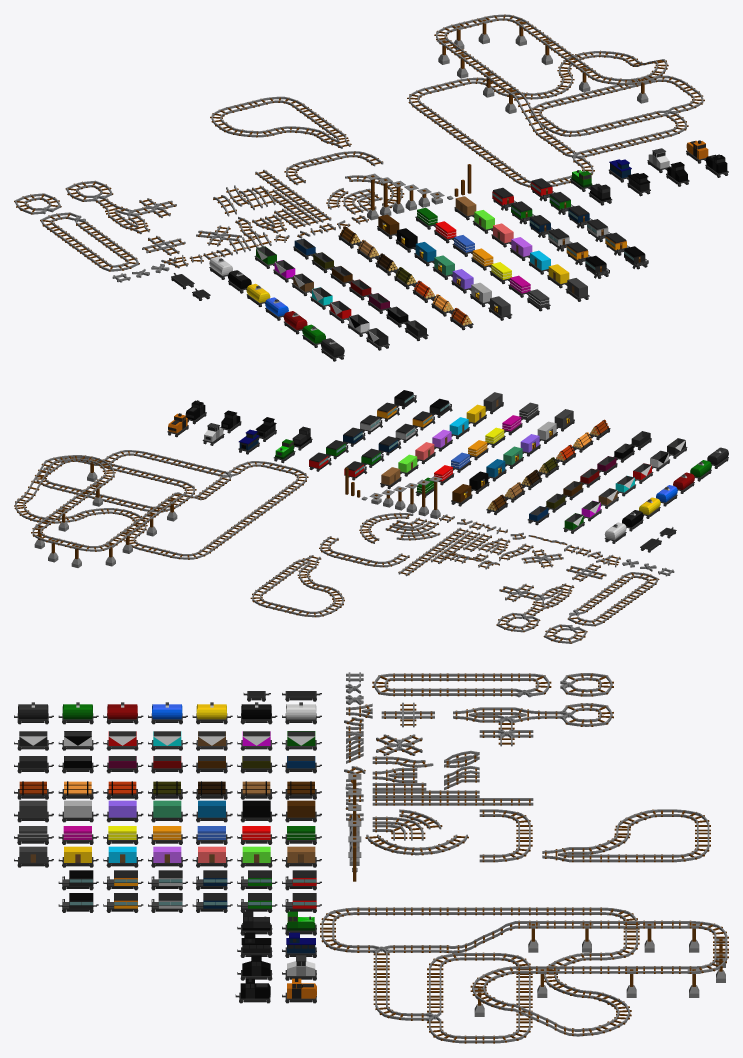
Rendered from Low Poly Trains and Railroads.fbx.
3 views of the same model, one above another, from view 1: azimuth 30°, elevation 25°; view 2: azimuth 150°, elevation 25°; view 3: azimuth 270°, elevation 25° (orthographic). The views are drawn at different scales.
Parts seen in each view (by area): view 1: Example Railroad Track, Track Part Example 1, Track Part Example 3, Track Part Example 2, Track Turn Example, Track Long, Track Part Example 4; view 2: Example Railroad Track, Track Part Example 1, Track Part Example 3, Track Part Example 2, Track Turn Example, Track Long, Track Turn Wide Example, Track Part Example 4; view 3: Example Railroad Track, Track Part Example 1, Track Part Example 2, Track Part Example 3, Track Long, Track Turn Example, Track Turn Wide Example, Track Part Example 4, Track Medium, Train 1 Black, Train 1, Black Animal Car (+35 smaller).
Boxes of the visible parts, left/top/right/bottom form: Example Railroad Track: left=407, top=14, right=704, bottom=187; Track Part Example 1: left=210, top=96, right=351, bottom=148; Track Part Example 3: left=65, top=180, right=176, bottom=234; Track Part Example 2: left=40, top=212, right=139, bottom=271; Track Turn Example: left=284, top=151, right=383, bottom=185; Track Long: left=255, top=169, right=331, bottom=222; Track Part Example 4: left=14, top=193, right=61, bottom=214; Example Railroad Track: left=14, top=450, right=308, bottom=567; Track Part Example 1: left=250, top=555, right=344, bottom=617; Track Part Example 3: left=496, top=583, right=574, bottom=632; Track Part Example 2: left=567, top=572, right=659, bottom=626; Track Turn Example: left=319, top=536, right=409, bottom=567; Track Long: left=398, top=527, right=468, bottom=576; Track Turn Wide Example: left=359, top=512, right=413, bottom=543; Track Part Example 4: left=543, top=624, right=587, bottom=643; Example Railroad Track: left=320, top=907, right=728, bottom=1043; Track Part Example 1: left=542, top=809, right=710, bottom=862; Track Part Example 2: left=372, top=673, right=551, bottom=697; Track Part Example 3: left=453, top=703, right=613, bottom=746; Track Long: left=372, top=798, right=533, bottom=805; Track Turn Example: left=479, top=809, right=532, bottom=862; Track Turn Wide Example: left=365, top=834, right=468, bottom=855; Track Part Example 4: left=560, top=673, right=613, bottom=696; Track Medium: left=372, top=790, right=479, bottom=797; Train 1 Black: left=235, top=978, right=270, bottom=1003; Train 1: left=282, top=978, right=316, bottom=1003; Black Animal Car: left=237, top=800, right=277, bottom=822.
Bounding box in the file's own units: 97.92 × 6.24 × 80.05.
